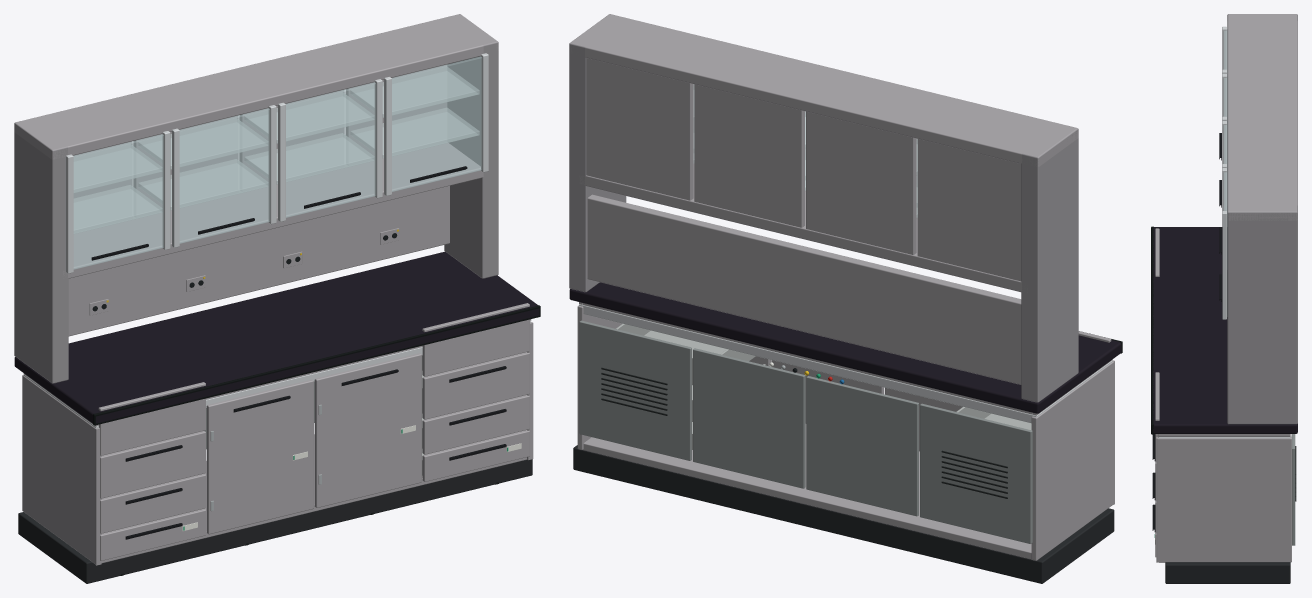
The model's file is lab-bench-overhead.glb.
3 views of the same model, side by side, from view 1: azimuth 30°, elevation 25°; view 2: azimuth 150°, elevation 25°; view 3: azimuth 270°, elevation 25° (orthographic). The views are drawn at different scales.
Parts seen in each view (by area): view 1: Runtime batch - Soft grey laboratory laminate, Runtime batch - Black phenolic worktop - satin, Runtime batch - Frosted safety glass, Runtime batch - Warm gray powder coat highlight, Runtime batch - Room 809 light gray powder coat, Runtime batch - __moving__Access - Base cabinet 3 door 1, Runtime batch - __moving__Access - Base cabinet 2 door 1, Runtime batch - __moving__Access - Overhead module 1 glass d, Runtime batch - __moving__Access - Overhead module 2 glass d, Runtime batch - __moving__Access - Overhead module 3 glass d, Runtime batch - __moving__Access - Overhead module 4 glass d, Runtime batch - Recessed graphite bench plinth paint (+10 smaller); view 2: Runtime batch - Soft grey laboratory laminate, Runtime batch - Powder coat service gray, Runtime batch - Warm gray powder coat highlight, Runtime batch - Room 809 light gray powder coat, Runtime batch - Black phenolic worktop - satin, Runtime batch - Recessed graphite bench plinth paint, Runtime batch - Satin anodized aluminum, Runtime batch - Casework seam shadow, Runtime batch - __moving__Access - Drawer bank 4 drawer 3, Runtime batch - __moving__Access - Base cabinet 3 door 1; view 3: Runtime batch - Soft grey laboratory laminate, Runtime batch - Black phenolic worktop - satin, Runtime batch - Room 809 light gray powder coat, Runtime batch - Recessed graphite bench plinth paint, Runtime batch - __moving__Access - Overhead module 4 glass d, Runtime batch - Black phenolic exposed edge, Runtime batch - Powder coat service gray, Runtime batch - Warm gray powder coat highlight, Runtime batch - __moving__Access - Overhead module 2 glass d, Runtime batch - __moving__Access - Overhead module 1 glass d, Runtime batch - __moving__Access - Overhead module 3 glass d, Runtime batch - __moving__Access - Drawer bank 4 drawer 4 (+2 smaller).
Part boxes in pixels (x1=…): Runtime batch - Soft grey laboratory laminate: x1=14, y1=14, x2=533, y2=565; Runtime batch - Black phenolic worktop - satin: x1=14, y1=251, x2=539, y2=423; Runtime batch - Frosted safety glass: x1=74, y1=67, x2=479, y2=233; Runtime batch - Warm gray powder coat highlight: x1=23, y1=186, x2=531, y2=426; Runtime batch - Room 809 light gray powder coat: x1=14, y1=41, x2=498, y2=383; Runtime batch - __moving__Access - Base cabinet 3 door 1: x1=314, y1=353, x2=421, y2=507; Runtime batch - __moving__Access - Base cabinet 2 door 1: x1=206, y1=379, x2=313, y2=534; Runtime batch - __moving__Access - Overhead module 1 glass d: x1=65, y1=131, x2=170, y2=273; Runtime batch - __moving__Access - Overhead module 2 glass d: x1=172, y1=105, x2=276, y2=247; Runtime batch - __moving__Access - Overhead module 3 glass d: x1=278, y1=79, x2=382, y2=221; Runtime batch - __moving__Access - Overhead module 4 glass d: x1=384, y1=53, x2=488, y2=195; Runtime batch - Recessed graphite bench plinth paint: x1=18, y1=459, x2=532, y2=583; Runtime batch - Soft grey laboratory laminate: x1=570, y1=14, x2=1114, y2=560; Runtime batch - Powder coat service gray: x1=579, y1=320, x2=1032, y2=543; Runtime batch - Warm gray powder coat highlight: x1=579, y1=194, x2=1112, y2=415; Runtime batch - Room 809 light gray powder coat: x1=569, y1=43, x2=1078, y2=402; Runtime batch - Black phenolic worktop - satin: x1=569, y1=282, x2=1121, y2=413; Runtime batch - Recessed graphite bench plinth paint: x1=573, y1=445, x2=1114, y2=583; Runtime batch - Satin anodized aluminum: x1=579, y1=304, x2=1112, y2=423; Runtime batch - Casework seam shadow: x1=601, y1=367, x2=1007, y2=498; Runtime batch - __moving__Access - Drawer bank 4 drawer 3: x1=616, y1=324, x2=755, y2=385; Runtime batch - __moving__Access - Base cabinet 3 door 1: x1=771, y1=360, x2=884, y2=423; Runtime batch - Soft grey laboratory laminate: x1=1156, y1=14, x2=1297, y2=562; Runtime batch - Black phenolic worktop - satin: x1=1153, y1=227, x2=1297, y2=433; Runtime batch - Room 809 light gray powder coat: x1=1227, y1=14, x2=1297, y2=424; Runtime batch - Recessed graphite bench plinth paint: x1=1165, y1=562, x2=1290, y2=583; Runtime batch - __moving__Access - Overhead module 4 glass d: x1=1219, y1=168, x2=1227, y2=319; Runtime batch - Black phenolic exposed edge: x1=1151, y1=226, x2=1153, y2=434; Runtime batch - Powder coat service gray: x1=1291, y1=434, x2=1295, y2=545; Runtime batch - Warm gray powder coat highlight: x1=1158, y1=434, x2=1290, y2=436; Runtime batch - __moving__Access - Overhead module 2 glass d: x1=1219, y1=73, x2=1227, y2=205; Runtime batch - __moving__Access - Overhead module 1 glass d: x1=1219, y1=26, x2=1227, y2=157; Runtime batch - __moving__Access - Overhead module 3 glass d: x1=1219, y1=121, x2=1227, y2=252; Runtime batch - __moving__Access - Drawer bank 4 drawer 4: x1=1155, y1=372, x2=1159, y2=461.
Size of the model in its own units: 2.4 by 2.1 by 0.75.
